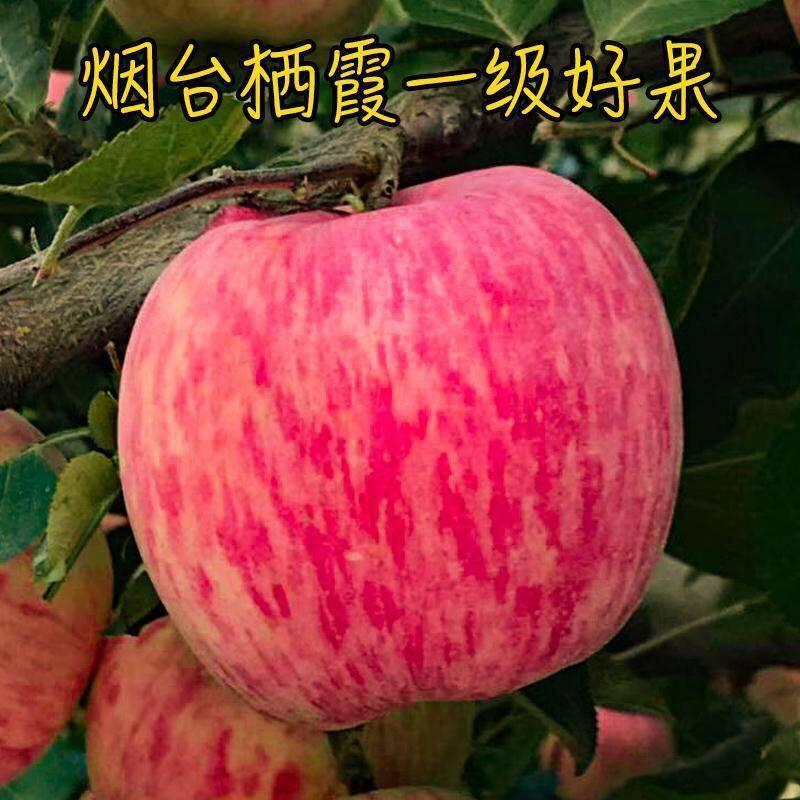apple: (121, 160, 681, 741), (77, 620, 332, 794)
